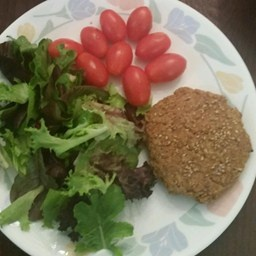background: (0, 2, 102, 102)
